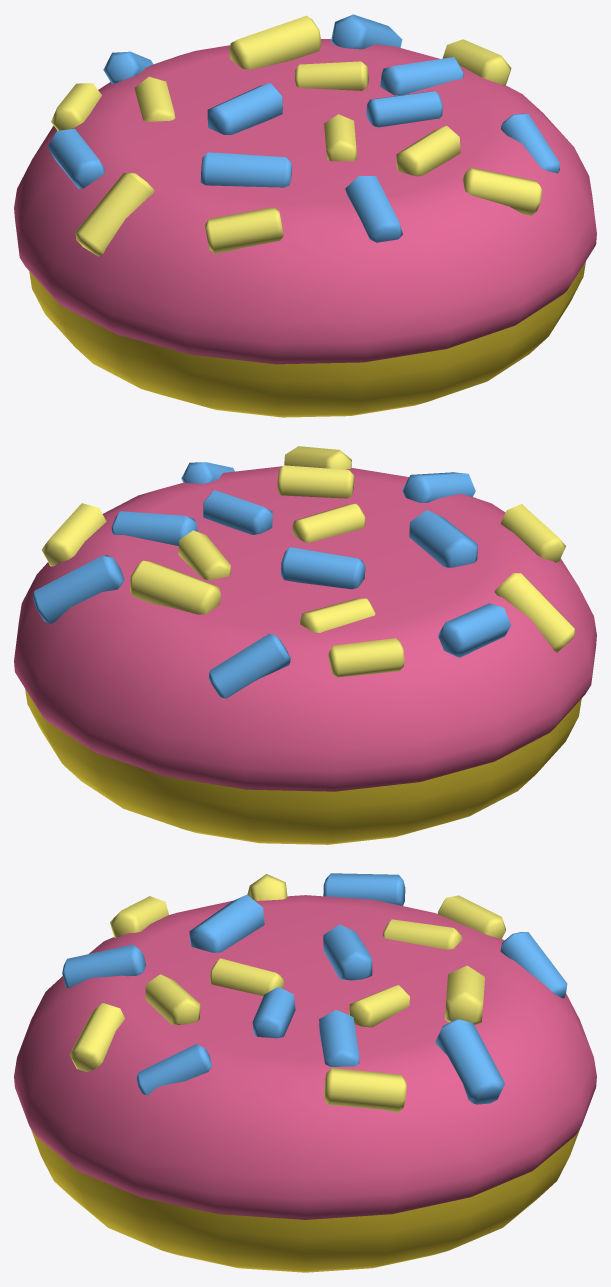
Rendered from Donut.fbx.
3 views of the same model, one above another, from view 1: azimuth 30°, elevation 25°; view 2: azimuth 150°, elevation 25°; view 3: azimuth 270°, elevation 25° (orthographic).
Visible parts, largest first — view 1: Donut; view 2: Donut; view 3: Donut.
Part boxes in pixels (x1,y1,x2,y2): Donut: (14, 14, 596, 417); Donut: (14, 446, 596, 844); Donut: (14, 873, 596, 1272).
Bounding box in the file's own units: 14.23 × 6.32 × 14.23.
